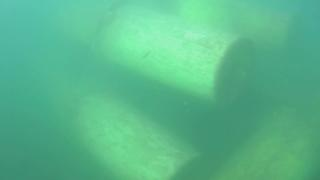pipe: (59, 1, 262, 111), (42, 84, 209, 179), (203, 105, 320, 180), (177, 1, 306, 54)
